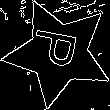P_E: (30, 29, 87, 76)
